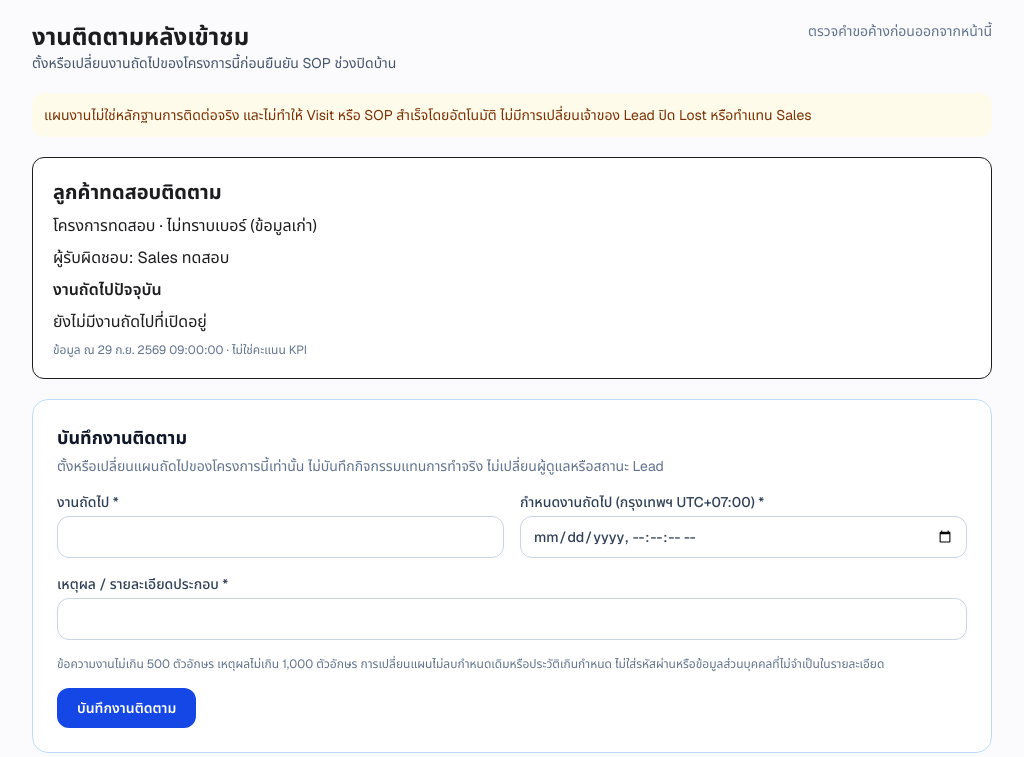
Test: interest-only visit follow-up › never resends a confirmed success if refreshing the current plan fails
The image size is (1024, 757).
Type "โทรนัดรอบถัดไป" into the field labelled "งานถัดไป *" at (280, 537), box [57,516,504,558]
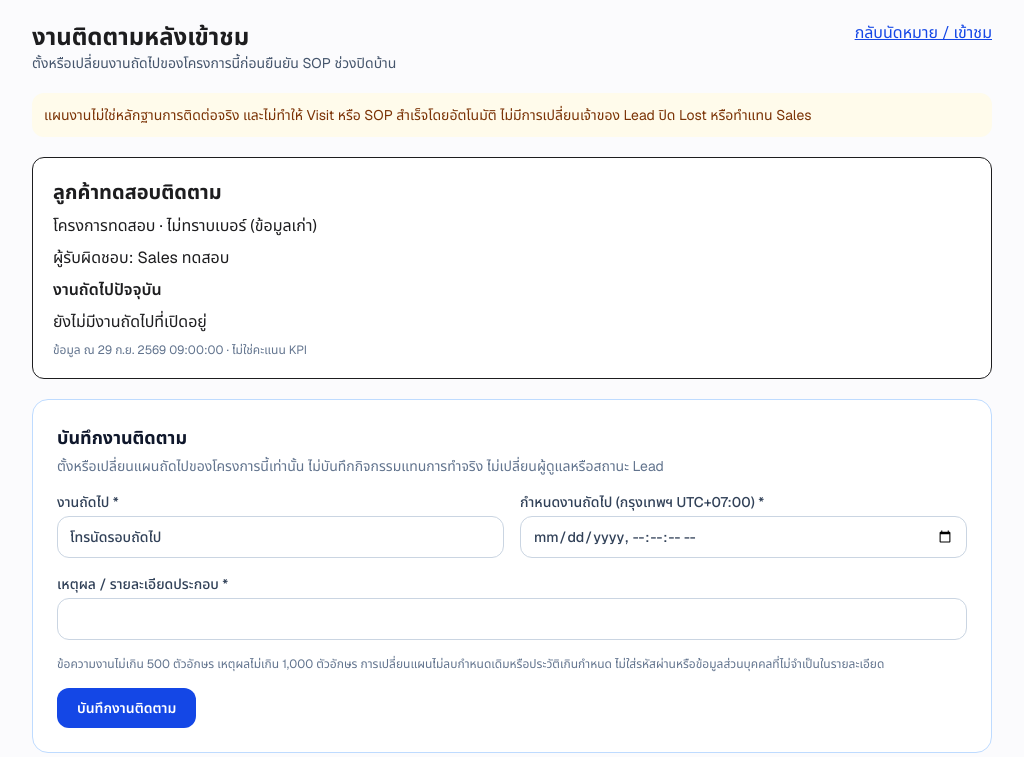
Type "2026-09-30T10:30:00" into the field labelled "กำหนดงานถัดไป (กรุงเทพฯ UTC+07:00) *" at (744, 537), box [520,516,967,558]
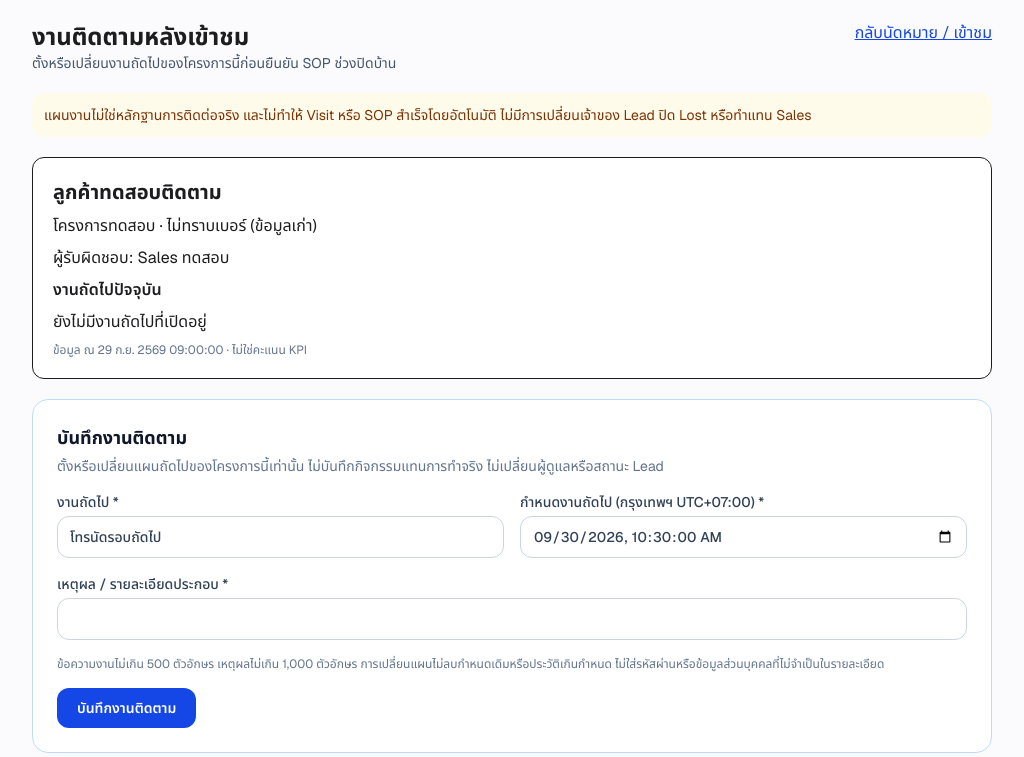
Type "ลูกค้าขอพิจารณา" into the field labelled "เหตุผล / รายละเอียดประกอบ *" at (512, 619), box [57,598,967,640]
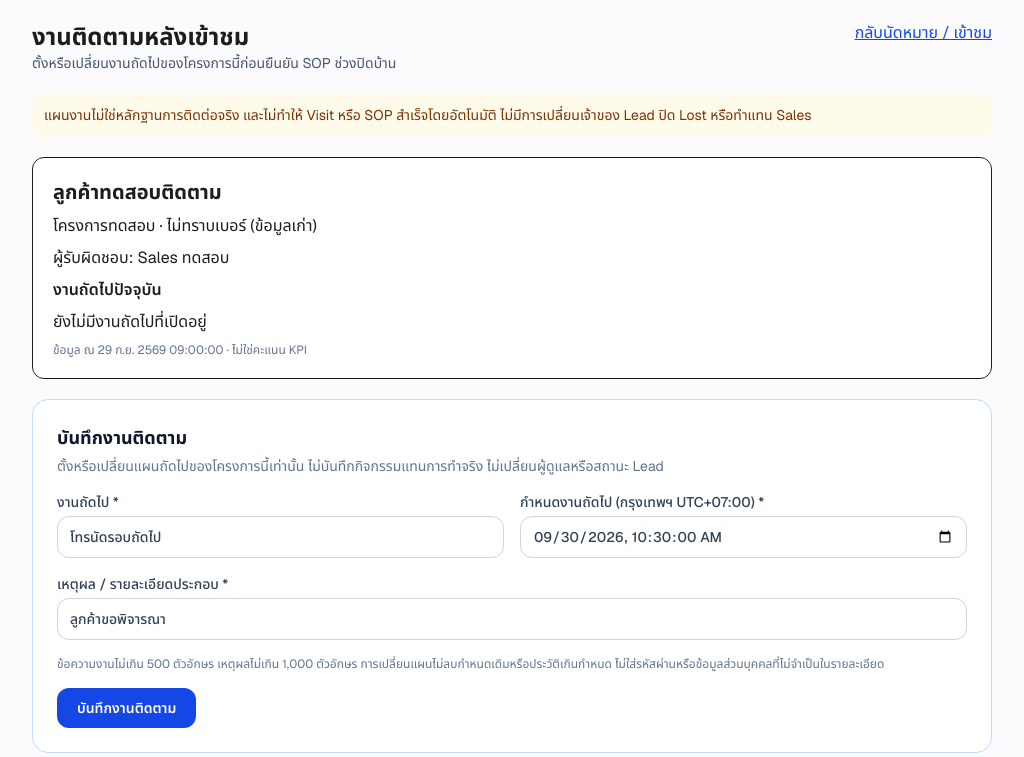
Submit the form, box [57,492,967,728]
(page scrolled)
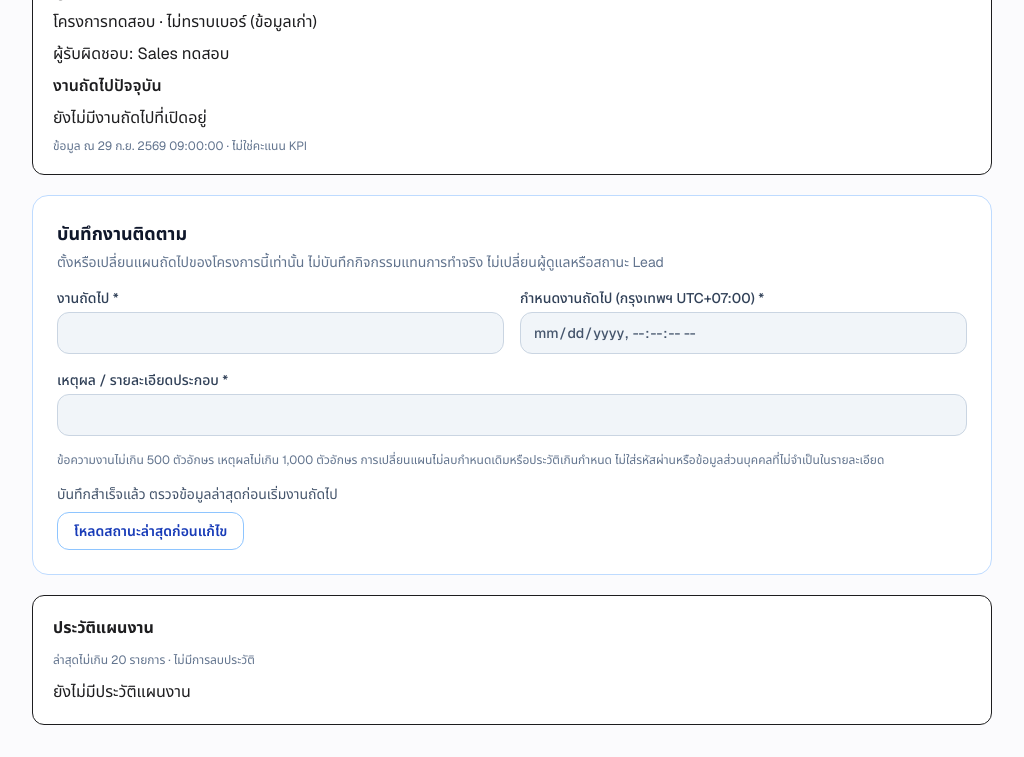
Click the button "โหลดสถานะล่าสุดก่อนแก้ไข" at (151, 531), box [57,512,244,550]
(page scrolled)
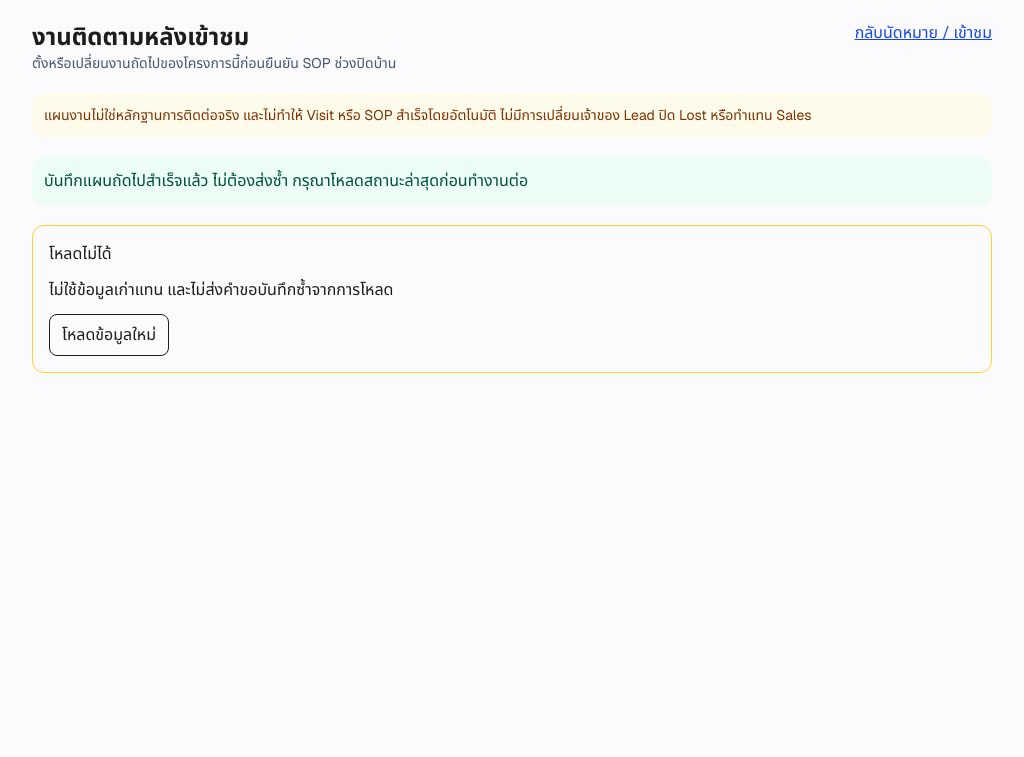
Result: the message "โหลดไม่ได้ ไม่ใช้ข้อมูลเก่าแทน และไม่ส่งคำขอบันทึกซ้ำจากการโหลด โหลดข้อมูลใหม่" is shown at [32,225,992,373]
Result: the form is gone
